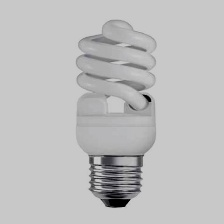light_bulb: (73, 15, 162, 208)
